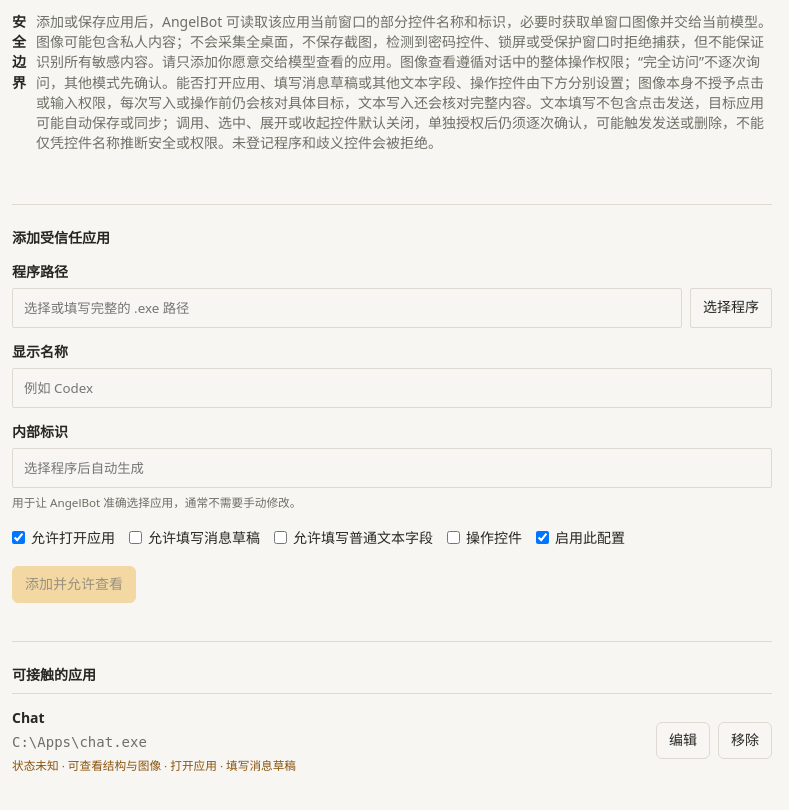
Test: DesktopControlSettings › does not carry a draft target across a changed executable path
This screenshot has width=789, height=810.
(page scrolled)
Click the button "编辑" at (683, 741), box x1=656 y1=722 x2=710 y2=759
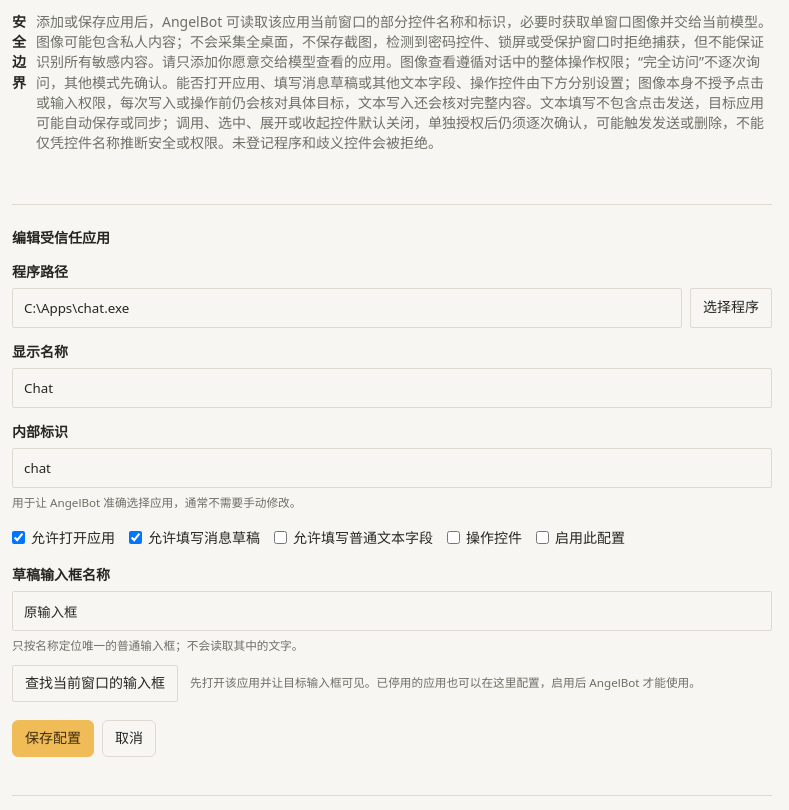
Replace the text in the field labelled "程序路径" with "C:\\Apps\\replacement.exe" at (347, 308), box x1=12 y1=288 x2=682 y2=328
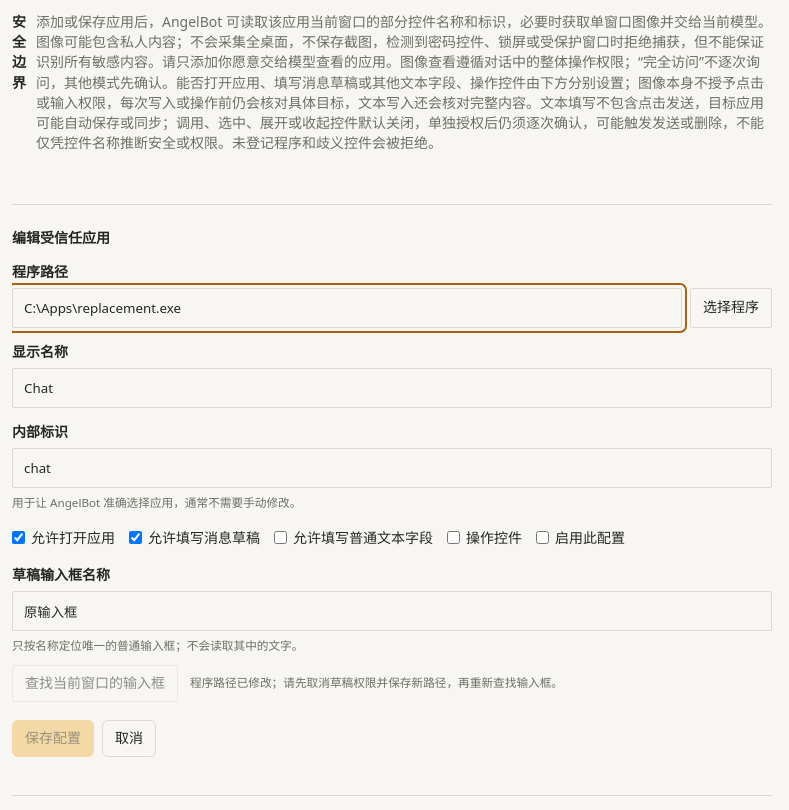
Now the button "查找当前窗口的输入框" is disabled, box x1=12 y1=665 x2=178 y2=702
Now the button "保存配置" is disabled, box x1=12 y1=720 x2=94 y2=756
Now the text "程序路径已修改；请先取消草稿权限并保存新路径，再重新查找输入框。" is shown, box x1=190 y1=675 x2=563 y2=692
Click the checkbox labelled "允许填写消息草稿" at (136, 538), box x1=129 y1=531 x2=142 y2=544
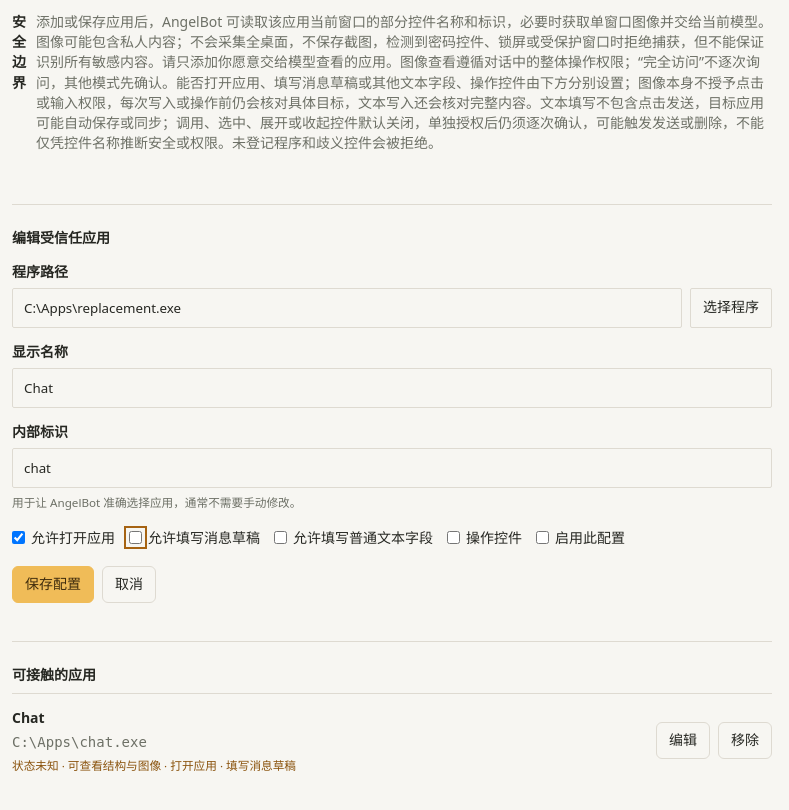
Now the button "保存配置" is enabled, box x1=12 y1=566 x2=94 y2=603
